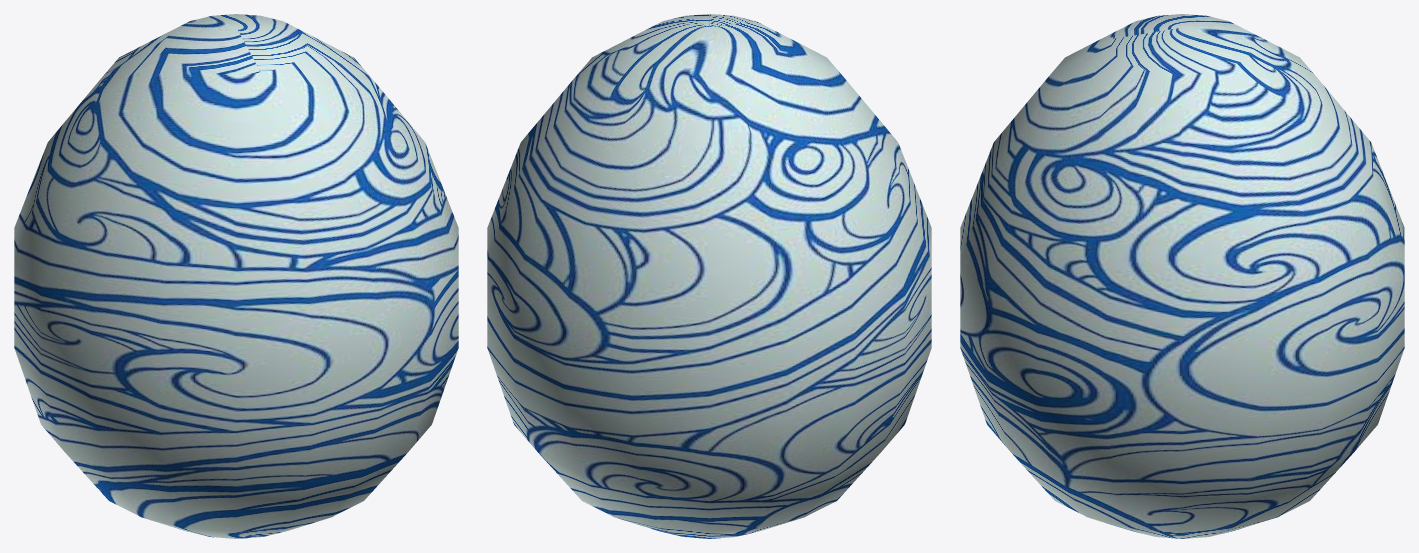
File: dan2.fbx
3 renders of one model, left to right at view 1: azimuth 30°, elevation 25°; view 2: azimuth 150°, elevation 25°; view 3: azimuth 270°, elevation 25°, orthographic.
Visible parts, largest first — view 1: Sphere002; view 2: Sphere002; view 3: Sphere002.
Boxes of the visible parts, bbox=[...] form: Sphere002: bbox=[14, 14, 458, 538]; Sphere002: bbox=[487, 14, 931, 538]; Sphere002: bbox=[960, 14, 1404, 538].
Size of the model in its own units: 206 by 247 by 203.
